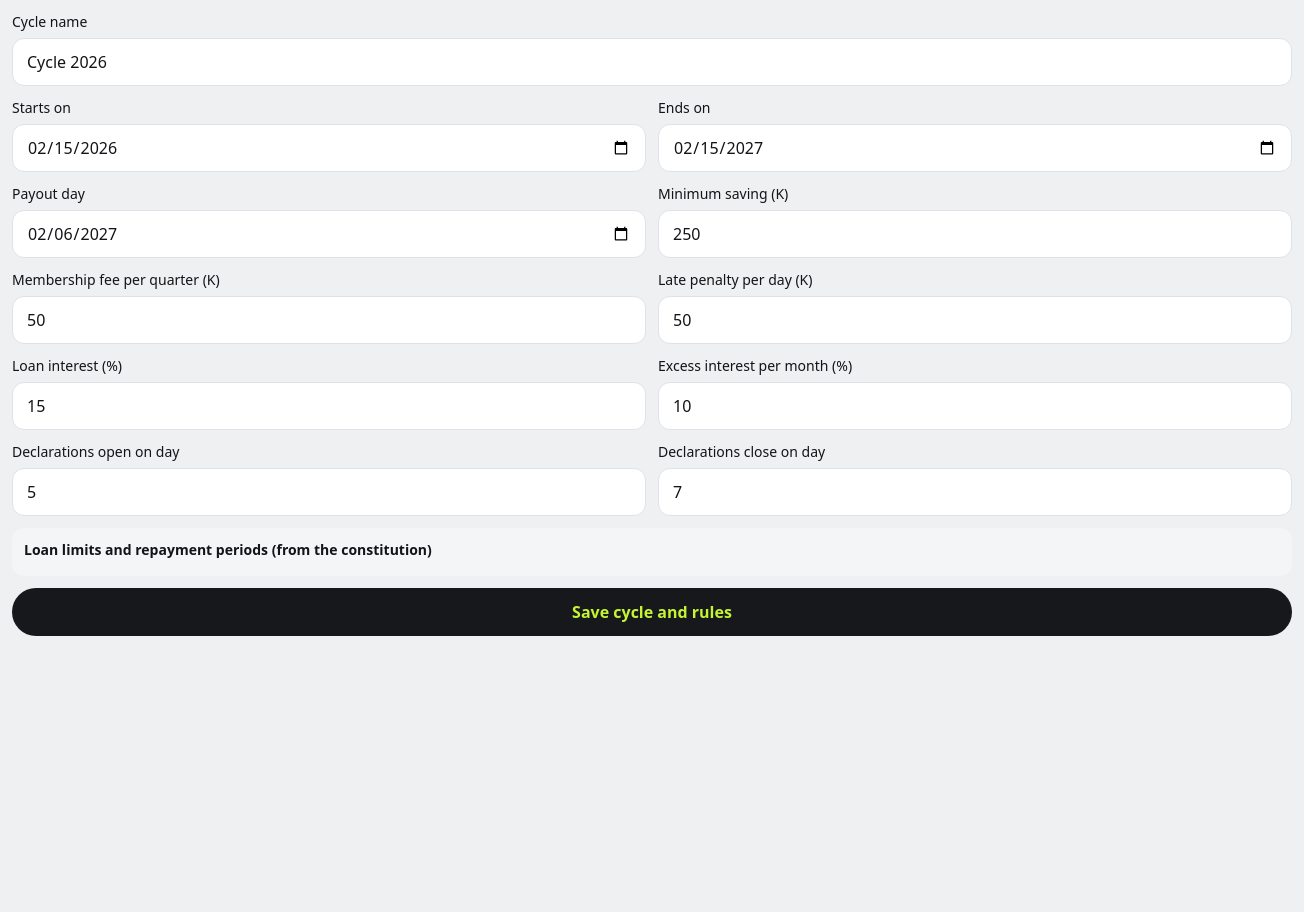
Test case: saves the cycle and rules, with rates stored as ratios, and confirms
Click the button "Save cycle and rules": (652, 612) [12,588,1292,636]
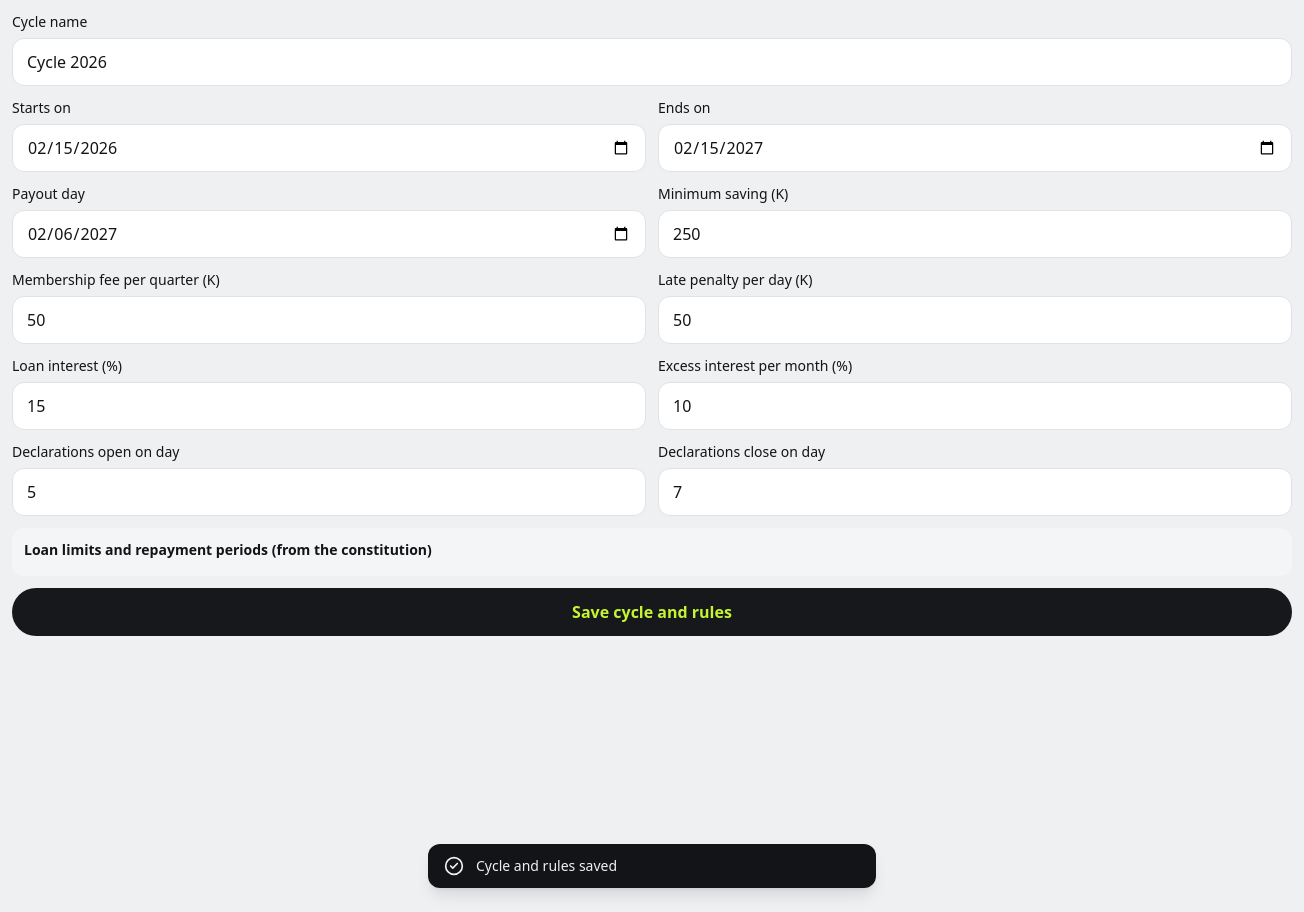
Expected: the text "Cycle and rules saved" is shown, [476,856,617,875]
